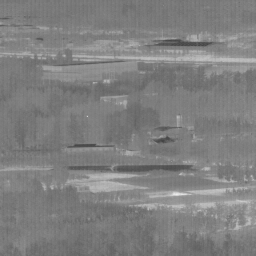aircraft: (86, 116, 88, 118)
